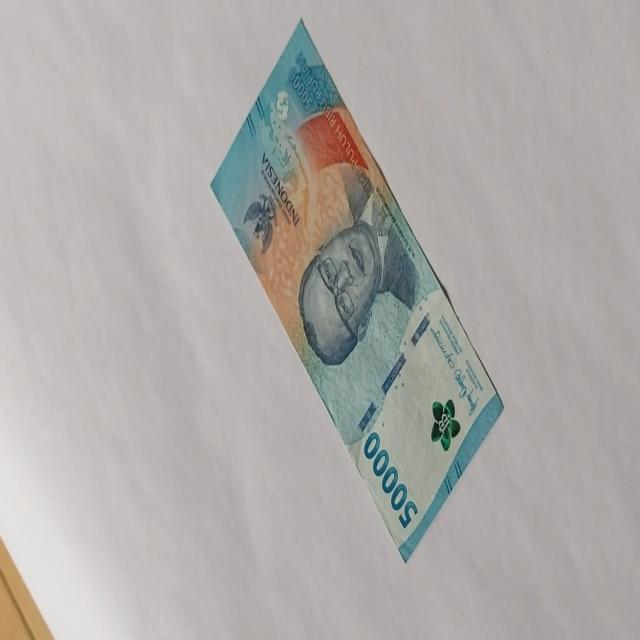lima puluh ribu rupiah: (210, 17, 504, 562), (362, 430, 419, 530)
